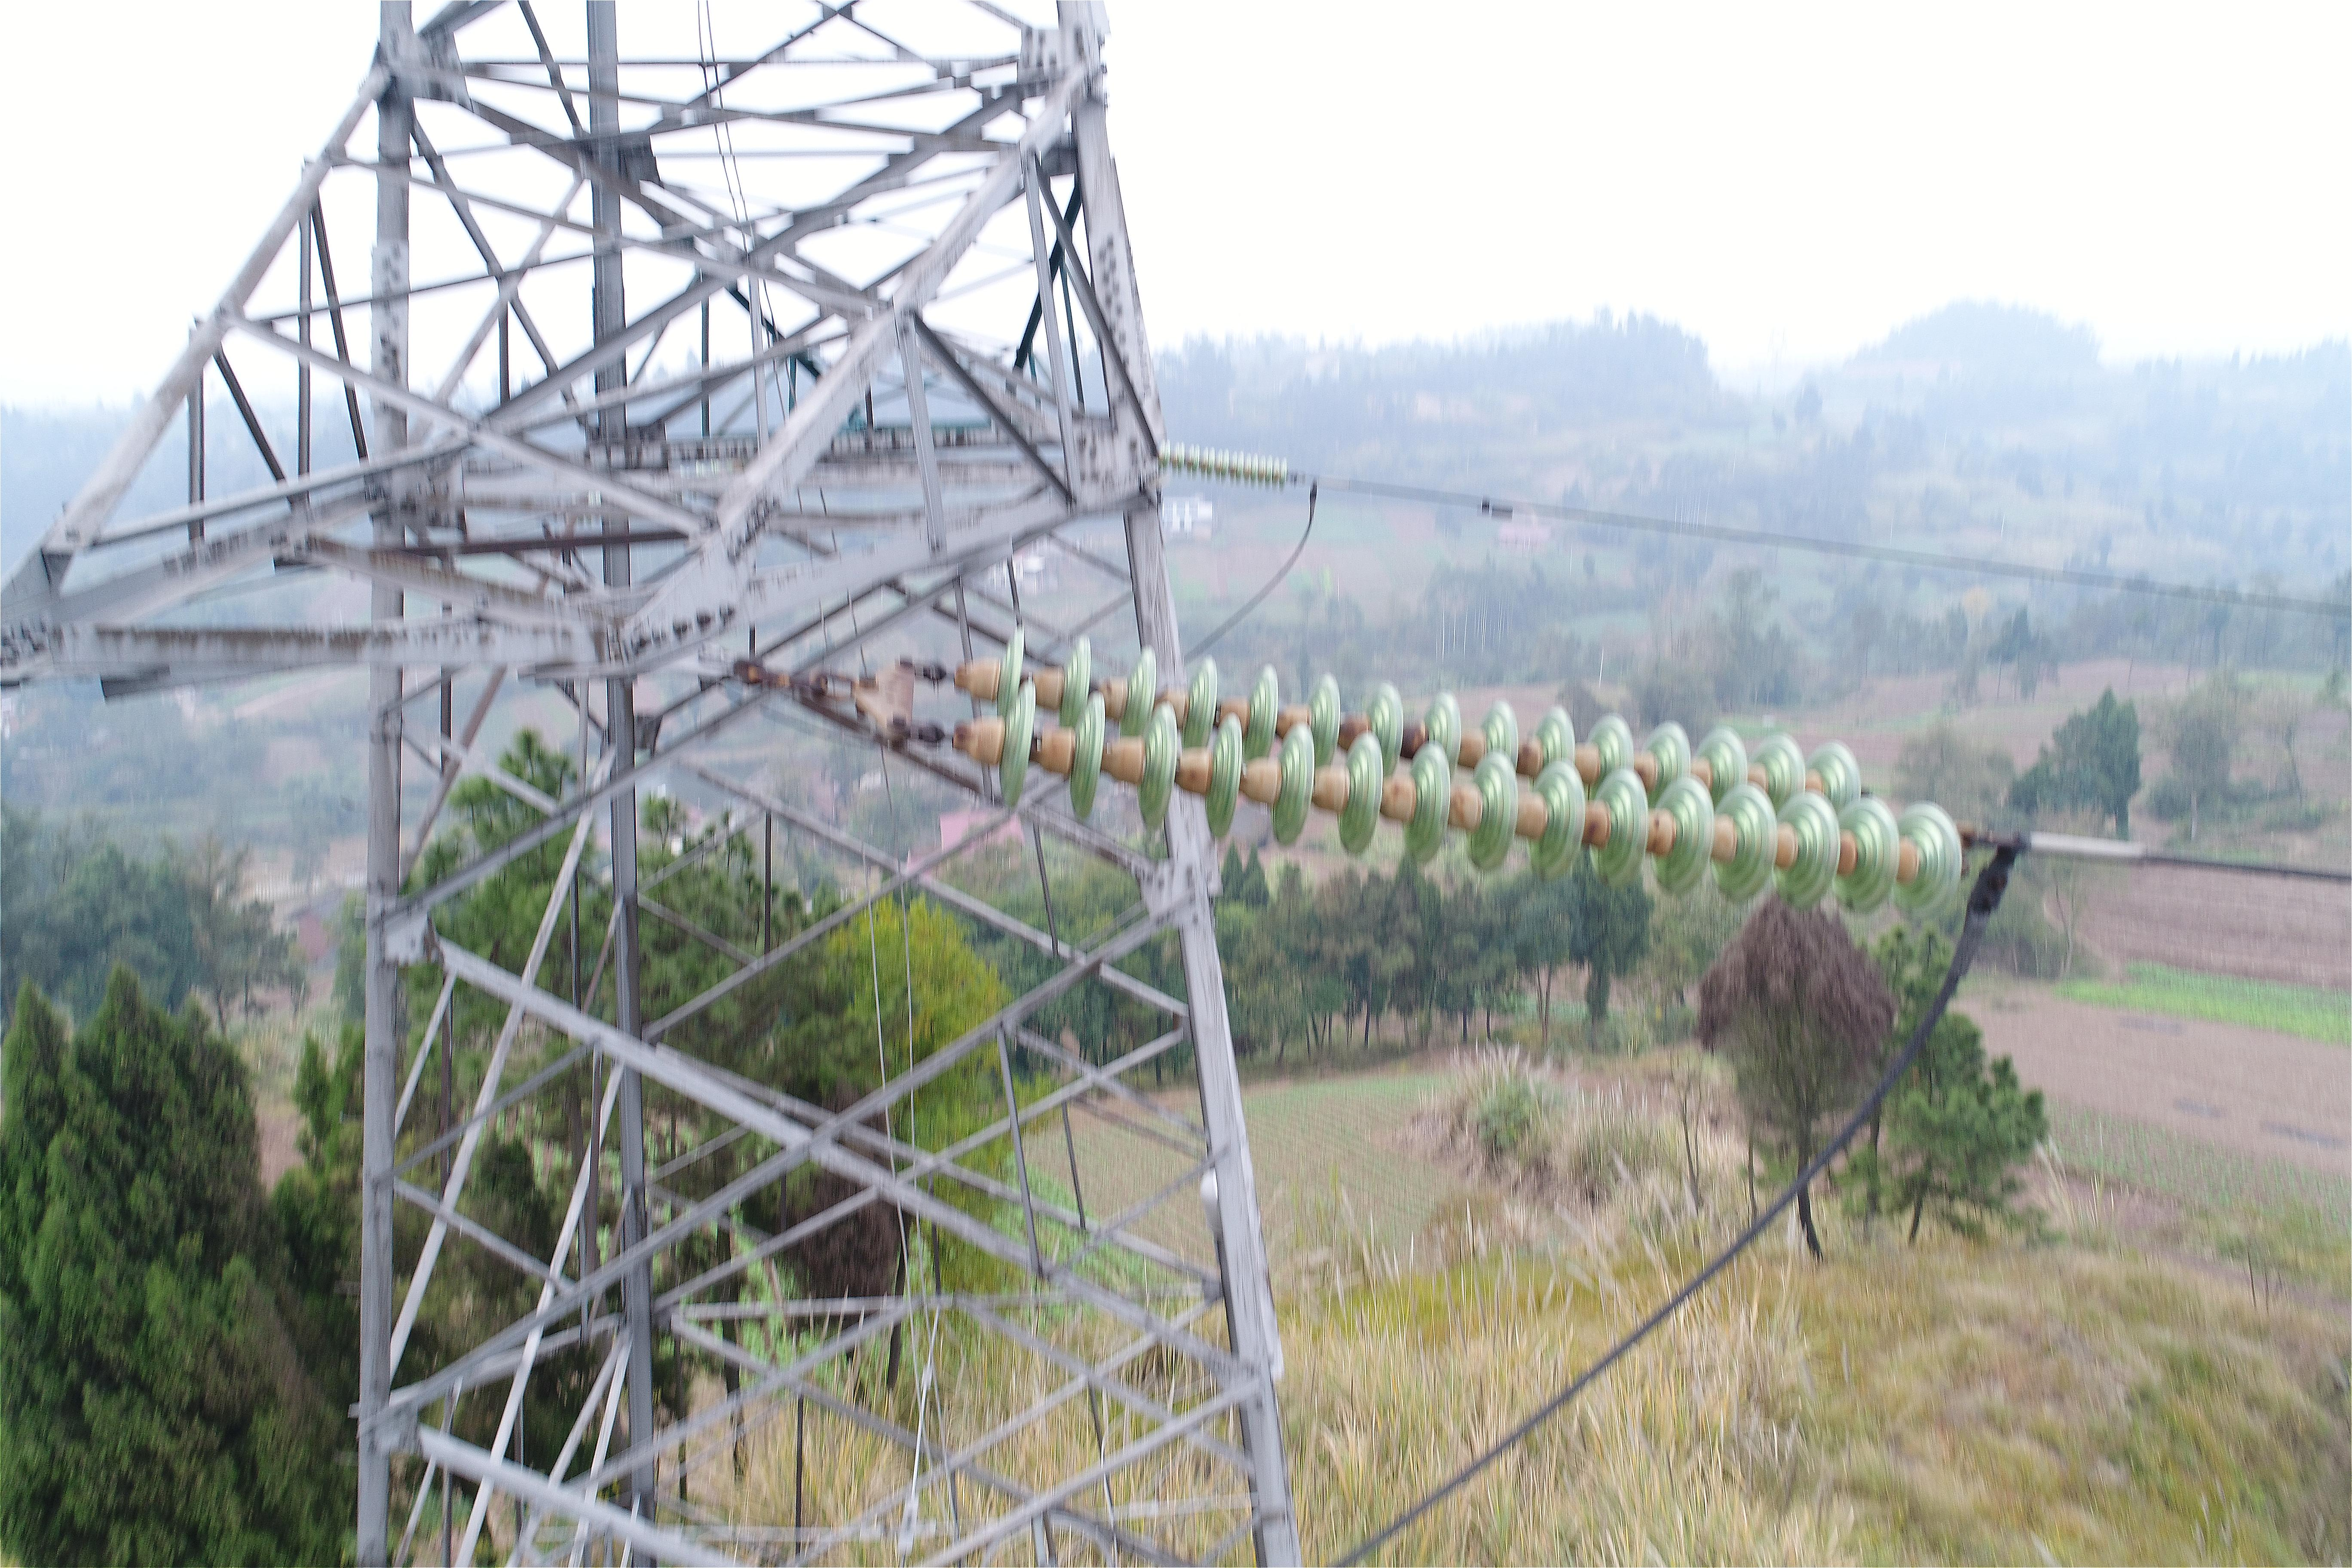insultor3: (899, 623, 1927, 934)
